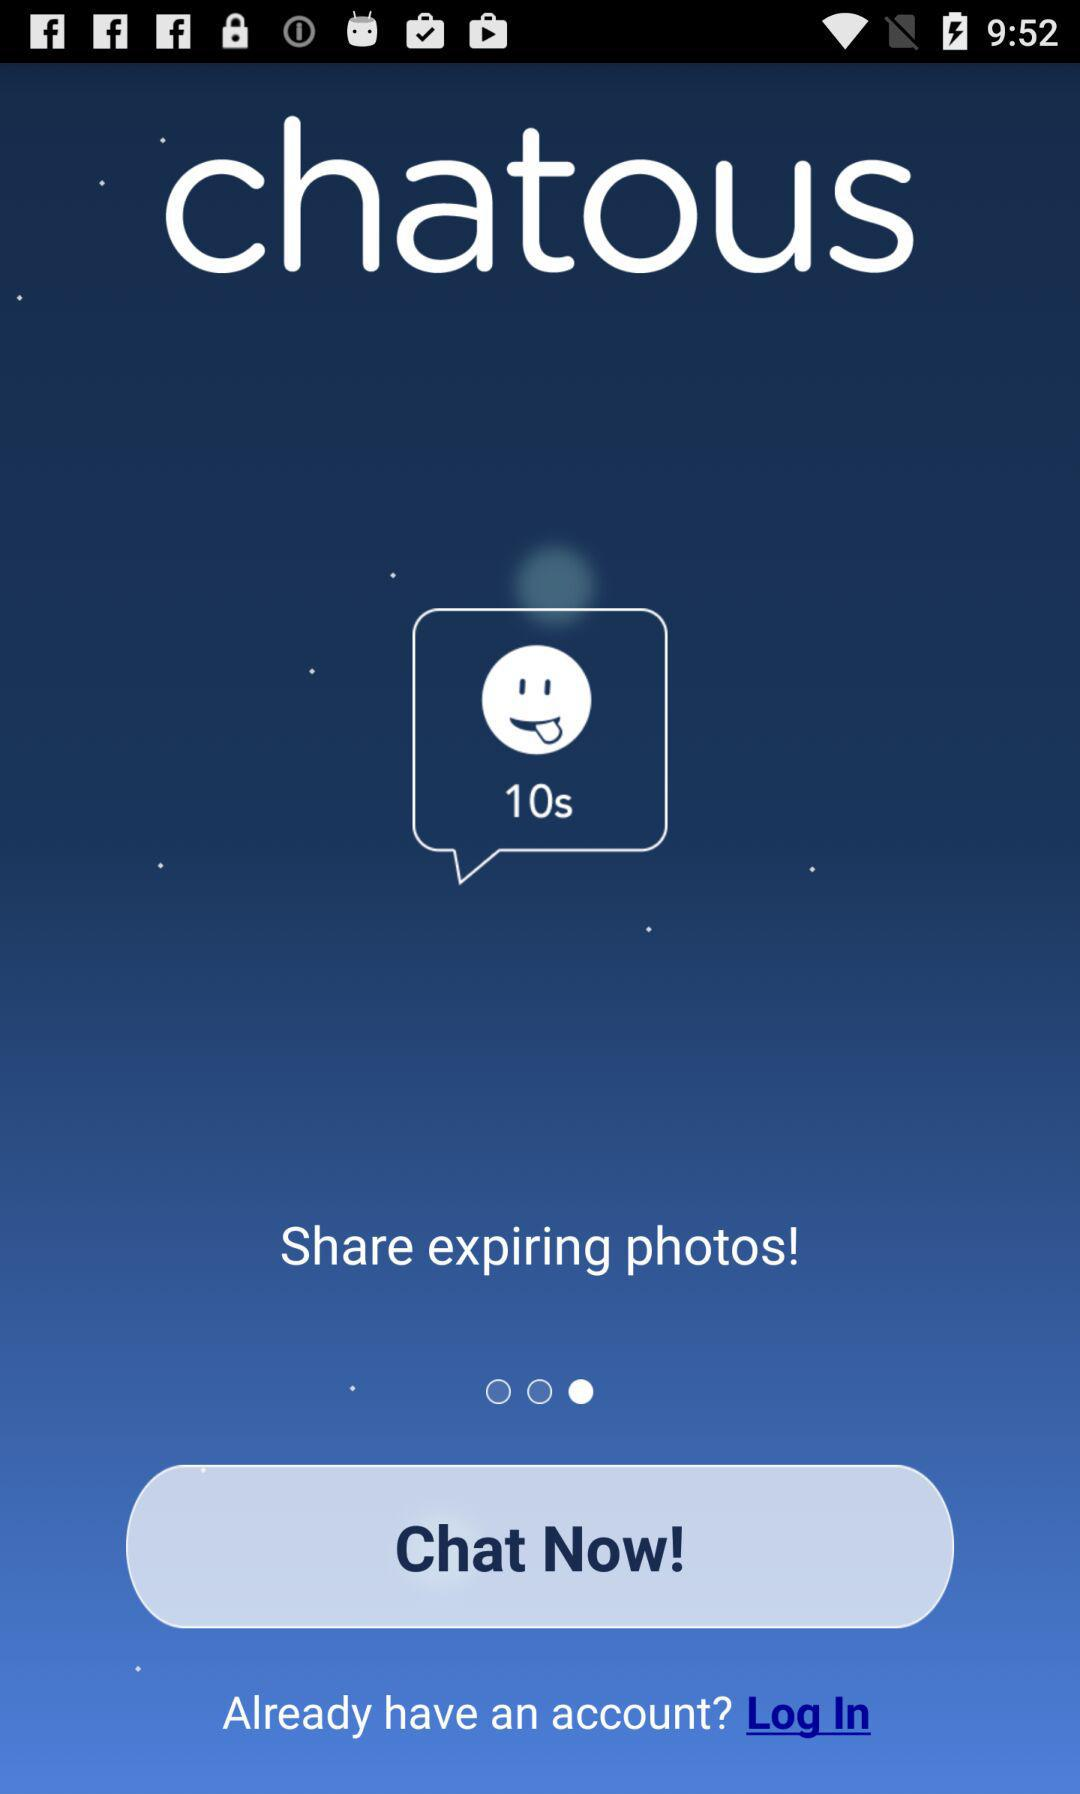Image: (411, 607, 669, 887)
PageIndicator: (486, 1378, 594, 1406)
Text: (164, 115, 915, 276), (281, 1222, 798, 1278), (222, 1693, 733, 1740), (746, 1695, 872, 1739)
TextButton: (126, 1463, 954, 1630)
UpperTaskBar: (1, 1, 1080, 64)
